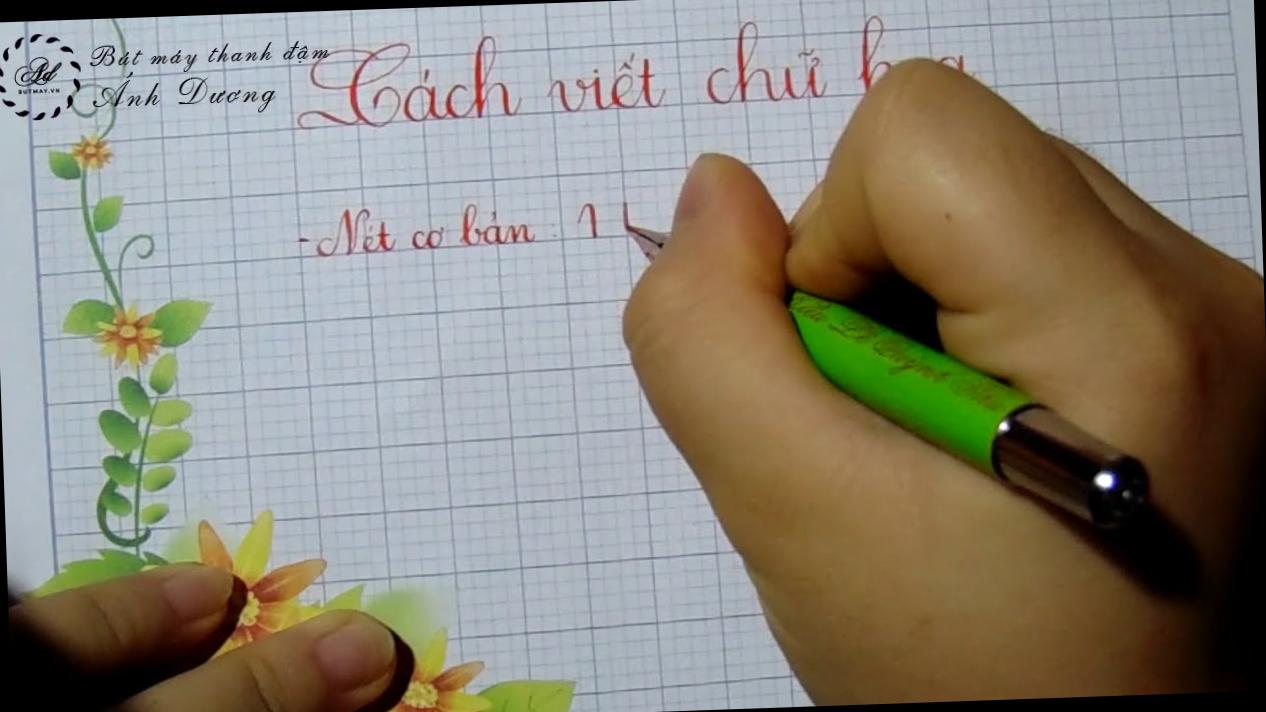text: (293, 10, 983, 136), (295, 191, 636, 263), (89, 60, 280, 120), (86, 35, 332, 78), (15, 54, 65, 90), (19, 82, 62, 98)
